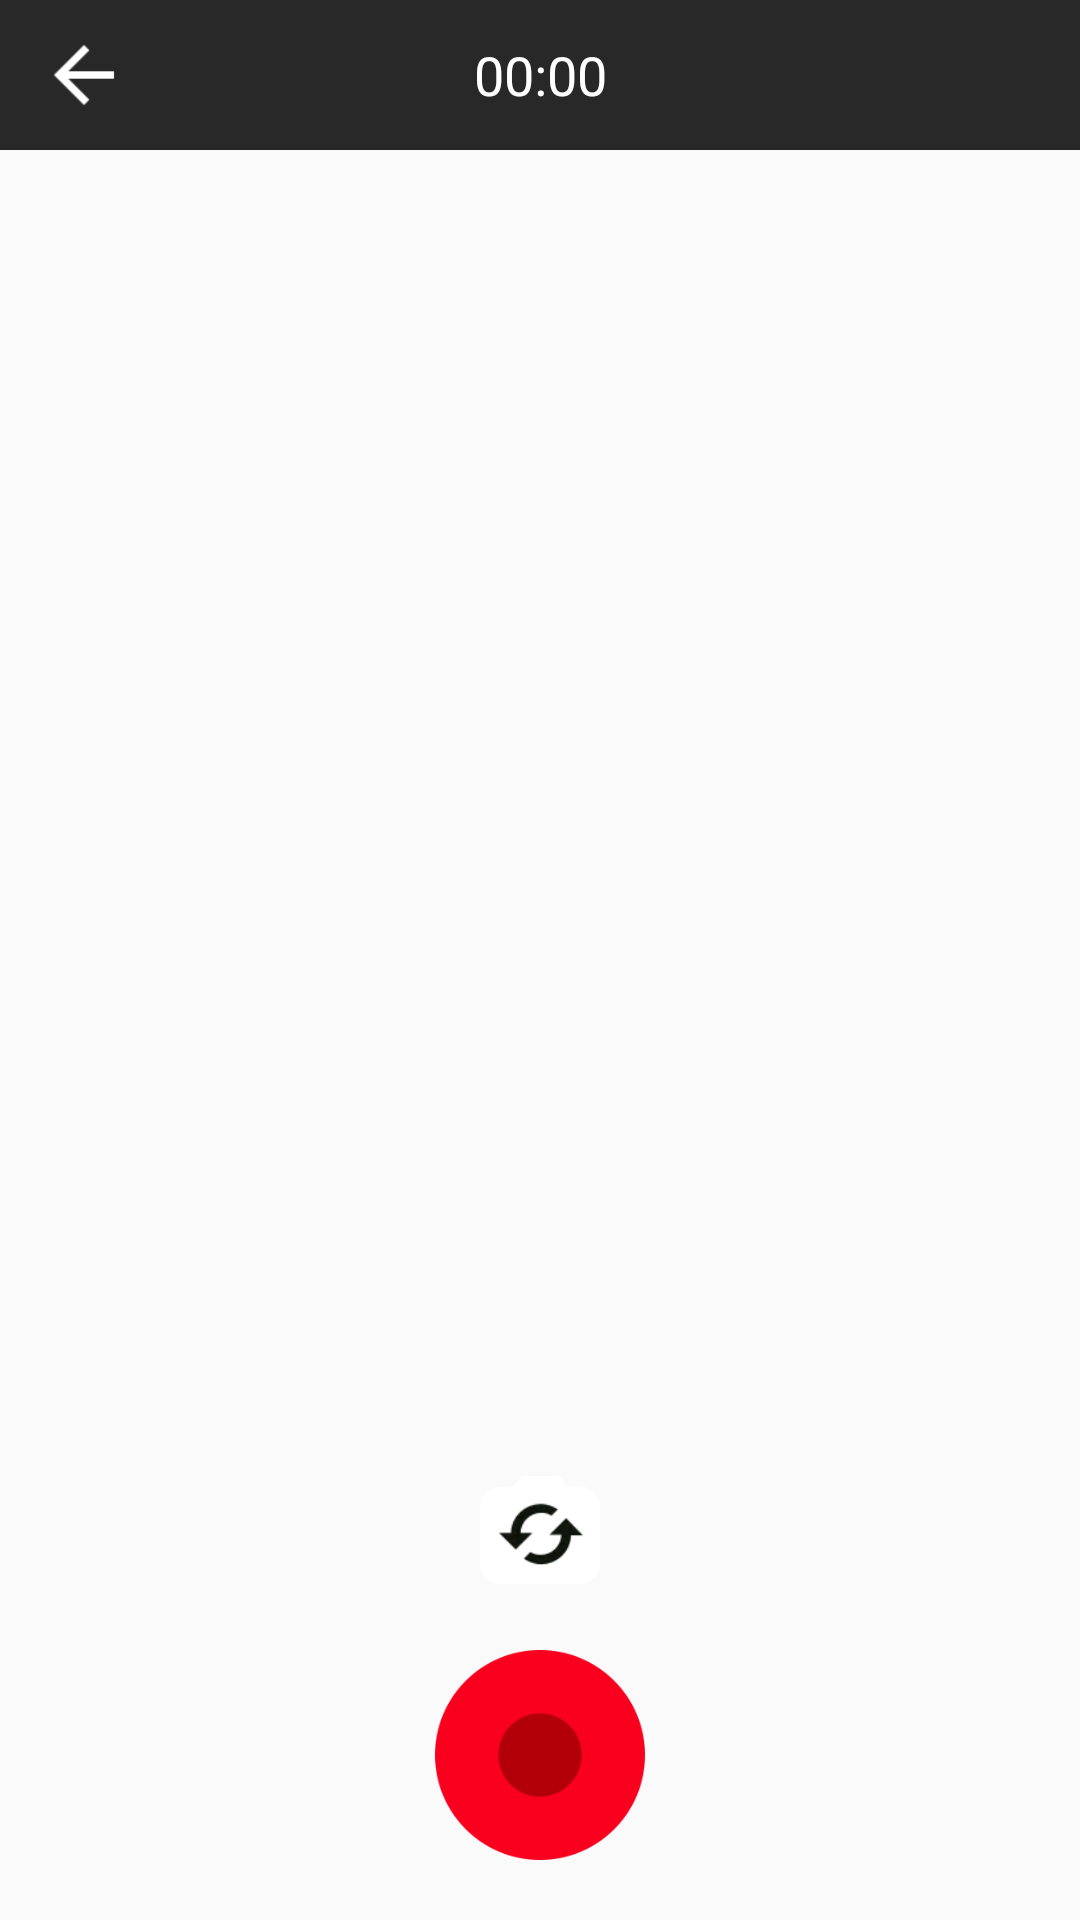

Locate icon controls on the screen. Image size 1080×1920, boxes as box=[x1, y1, x2, y2].
arrow back: box=[54, 45, 114, 105]
record start: box=[435, 1650, 645, 1860]
switch camera: box=[499, 1503, 583, 1565]
